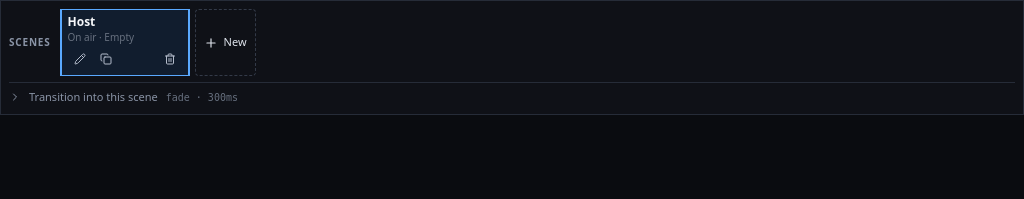
SceneStrip › edits the active scene’s transition and disables duration for a cut
Note: Collapsed by default — open it before editing.
Click the button "Transition into this scene fade · 300ms".
click(93, 96)  # box 9,89 -> 1015,106
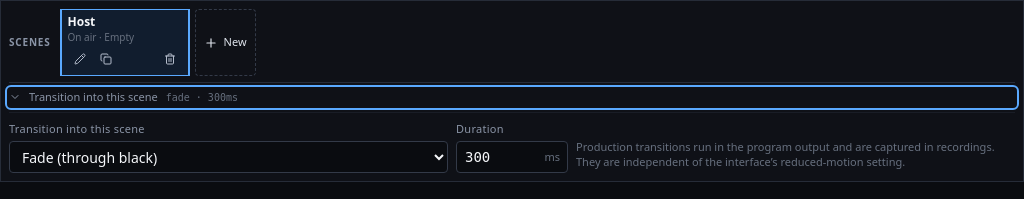
Select "Crossfade" in the dropdown labelled "Transition into this scene" at (228,157), box 9,141 -> 448,173
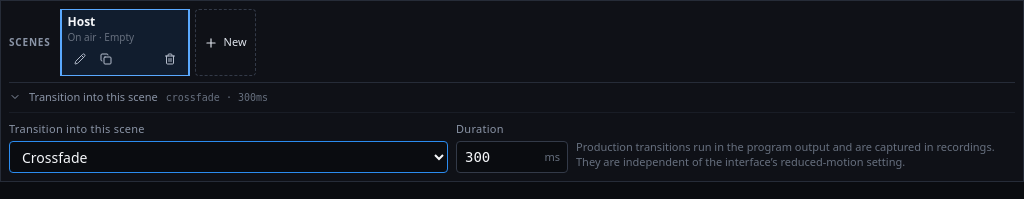
Expected: the number field labelled "Duration" is enabled, 456,141 -> 568,173
Select "Cut" in the dropdown labelled "Transition into this scene" at (228,157), box 9,141 -> 448,173
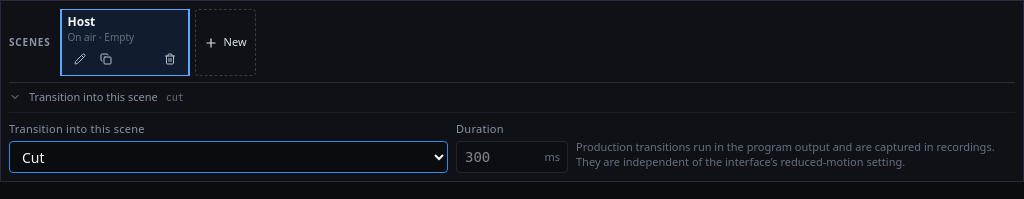
Expected: the number field labelled "Duration" is disabled, 456,141 -> 568,173
